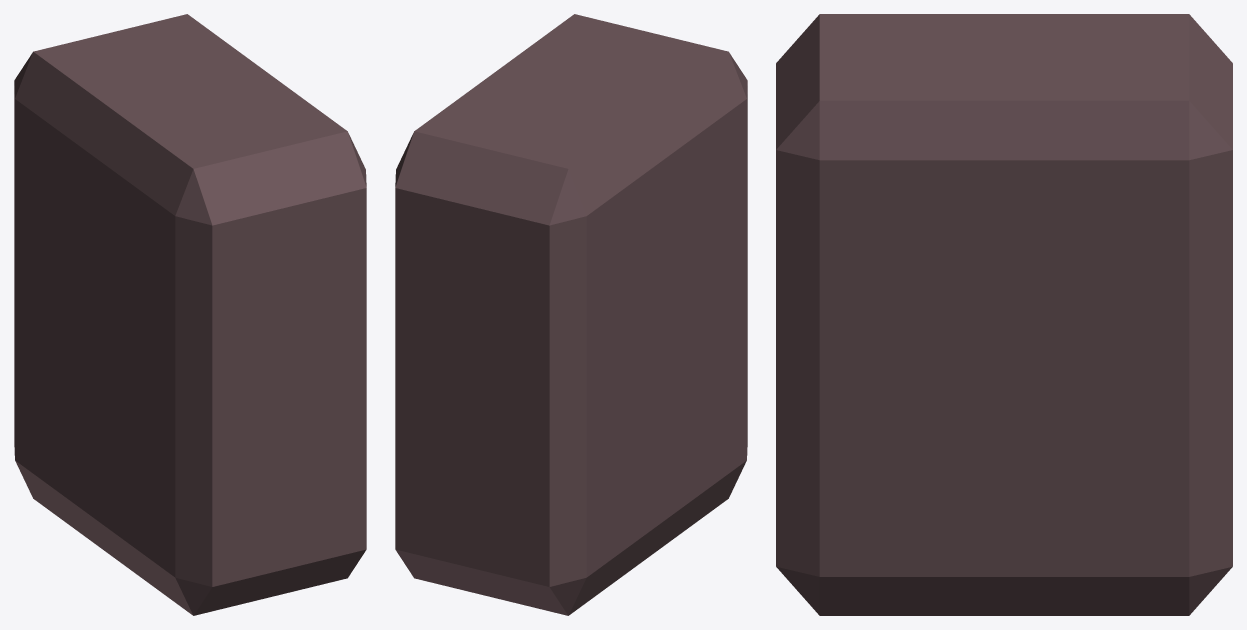
Rendered from luggage2.gltf.
3 renders of one model, left to right at view 1: azimuth 30°, elevation 25°; view 2: azimuth 150°, elevation 25°; view 3: azimuth 270°, elevation 25°, orthographic. The views are drawn at different scales.
Visible parts, largest first — view 1: Cube; view 2: Cube; view 3: Cube.
Part boxes in pixels (x1=…): Cube: x1=14, y1=14, x2=366, y2=615; Cube: x1=395, y1=14, x2=747, y2=615; Cube: x1=776, y1=14, x2=1232, y2=615.
Bounding box in the file's own units: 0.25 × 0.56 × 0.45.
